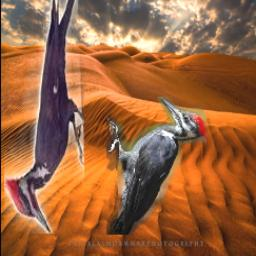Woodpecker: (4, 0, 84, 234), (107, 98, 208, 236)
